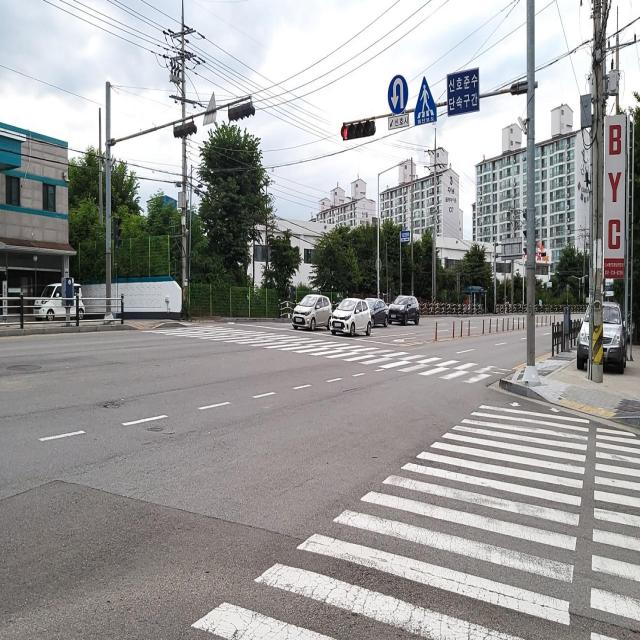횡단보도: (189, 397, 640, 640), (136, 322, 510, 390)
